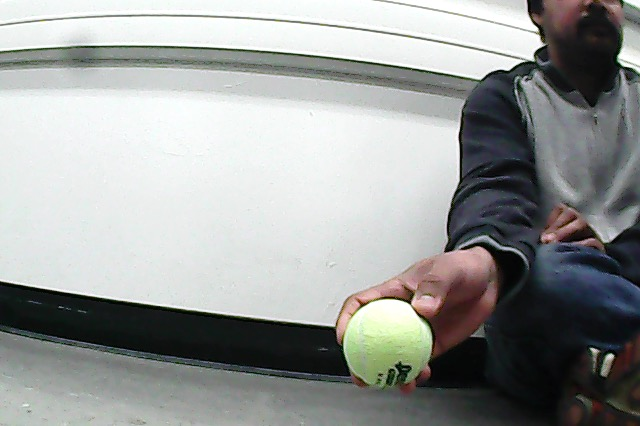ball: (335, 296, 439, 393)
